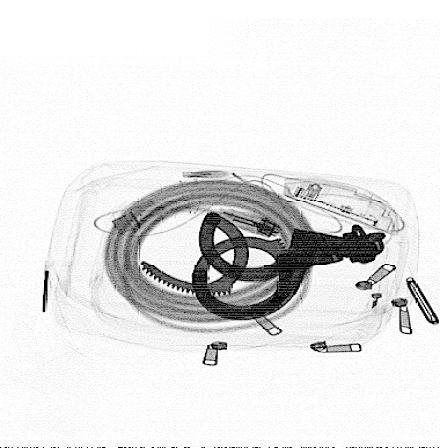HandCuffs: (136, 210, 389, 320)
